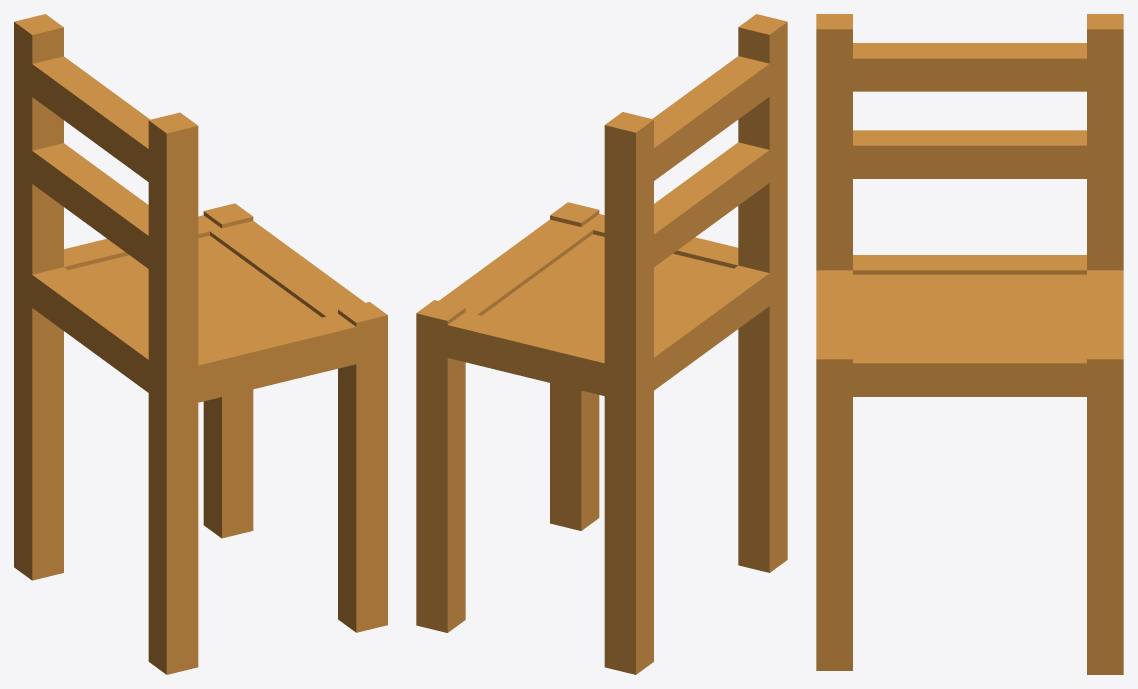
Rendered from chair-by-zak-wohlschlegel-4mHT5TolKDd.glb.
3 renders of one model, left to right at view 1: azimuth 30°, elevation 25°; view 2: azimuth 150°, elevation 25°; view 3: azimuth 270°, elevation 25°, orthographic.
Visible parts, largest first — view 1: group465371827, group64011970, group998079913, group203571715, group875983558, group823842447, group875368948, group1824706866, group1287164653, group1701258256, group879326718, group719671807 (+1 smaller); view 2: group998079913, group1824706866, group465371827, group823842447, group875983558, group203571715, group64011970, group2111818889, group1287164653, group719671807, group1701258256, group879326718 (+1 smaller); view 3: group875983558, group719671807, group879326718, group1701258256, group1824706866, group64011970, group203571715, group823842447, group1287164653, group875368948, group2111818889.
Boxes of the visible parts, <box> form: group465371827: <box>148,356,198,674</box>; group64011970: <box>338,302,387,632</box>; group998079913: <box>14,257,63,580</box>; group203571715: <box>148,112,198,397</box>; group875983558: <box>68,235,361,402</box>; group823842447: <box>14,14,63,270</box>; group875368948: <box>190,316,387,398</box>; group1824706866: <box>203,203,253,538</box>; group1287164653: <box>27,267,152,395</box>; group1701258256: <box>32,56,149,181</box>; group879326718: <box>32,143,148,268</box>; group719671807: <box>198,215,364,324</box>; group998079913: <box>604,354,653,674</box>; group1824706866: <box>416,300,465,632</box>; group465371827: <box>738,264,787,572</box>; group823842447: <box>604,112,653,366</box>; group875983558: <box>482,234,733,345</box>; group203571715: <box>738,14,787,297</box>; group64011970: <box>550,202,599,530</box>; group2111818889: <box>459,314,604,395</box>; group1287164653: <box>649,265,774,393</box>; group719671807: <box>416,219,603,360</box>; group1701258256: <box>652,56,769,180</box>; group879326718: <box>654,142,769,266</box>; group875983558: <box>853,274,1086,396</box>; group719671807: <box>830,342,1123,396</box>; group879326718: <box>839,130,1105,178</box>; group1701258256: <box>844,43,1105,91</box>; group1824706866: <box>1087,343,1123,674</box>; group64011970: <box>816,343,852,670</box>; group203571715: <box>816,14,852,269</box>; group823842447: <box>1087,14,1123,266</box>; group1287164653: <box>853,255,1086,274</box>; group875368948: <box>816,270,852,396</box>; group2111818889: <box>1087,270,1123,341</box>.
Bounding box in the file's own units: 0.56 × 1.33 × 0.67.
